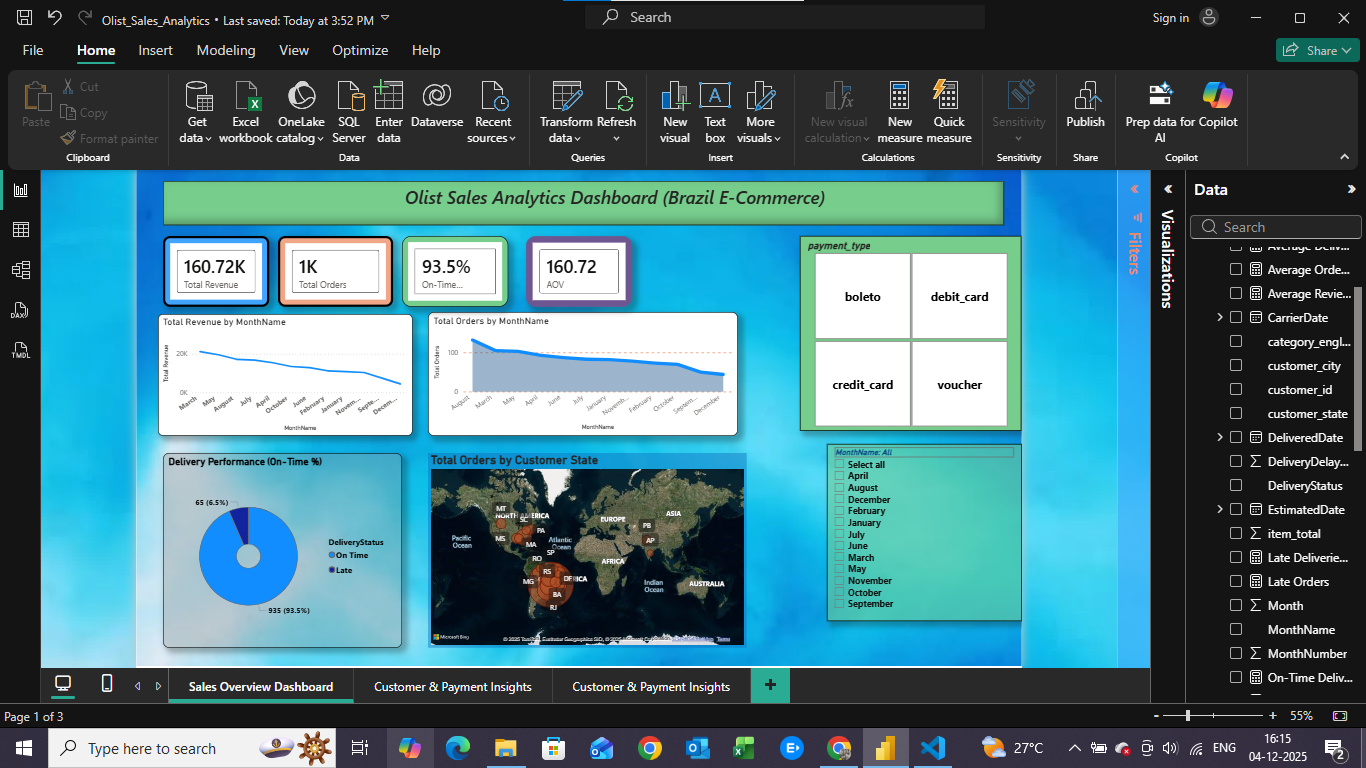

The page's visual inventory and layout, read from the dashboard file:
{"tool":"powerbi","page":{"name":"Sales Overview Dashboard","canvas":[1600,900],"ordinal":0},"visuals":[{"type":"cardVisual","fields":{"Data":["vw_sales_summary.Total Orders"]},"box":[256,120,208,128],"z":0},{"type":"lineChart","fields":{"Category":["vw_sales_summary.MonthName"],"Y":["vw_sales_summary.Total Revenue"]},"box":[40,260,460,220],"z":1000},{"type":"cardVisual","fields":{"Data":["vw_sales_summary.Total Revenue"]},"box":[48,120,192,128],"z":2000},{"type":"lineChart","fields":{"Category":["vw_sales_summary.MonthName"],"Y":["vw_sales_summary.Total Orders"]},"box":[528,256,560,224],"z":3000},{"type":"cardVisual","fields":{"Data":["vw_sales_summary.AOV"]},"box":[704,120,192,128],"z":4000},{"type":"donutChart","title":"Delivery Performance (On-Time %)","fields":{"Category":["vw_sales_summary.DeliveryStatus"],"Y":["vw_sales_summary.Total Orders"]},"box":[48,512,432,352],"z":5000},{"type":"cardVisual","fields":{"Data":["vw_sales_summary.On-Time Delivery %"]},"box":[480,120,192,128],"z":6000},{"type":"slicer","fields":{"Values":["vw_sales_summary.MonthName"]},"box":[1248,496,352,320],"z":7000},{"type":"slicer","fields":{"Values":["vw_sales_summary.payment_type"]},"box":[1200,120,400,352],"z":8000},{"type":"textbox","box":[48,20,1520,80],"z":9000},{"type":"map","title":"Total Orders by Customer State","fields":{"Category":["vw_sales_summary.customer_state"],"Size":["vw_sales_summary.Total Orders"]},"box":[528,512,576,352],"z":10000}]}

Visuals, with their boxes on the page's 1600x900 design canvas (x1, y1, x2, y2). These are canvas units, not pixel positions in the 1366x768 screenshot, which may show the page scaled, cropped or inside an application window:
cardVisual - vw_sales_summary.Total Orders: <region>256, 120, 464, 248</region>
lineChart - vw_sales_summary.MonthName x vw_sales_summary.Total Revenue: <region>40, 260, 500, 480</region>
cardVisual - vw_sales_summary.Total Revenue: <region>48, 120, 240, 248</region>
lineChart - vw_sales_summary.MonthName x vw_sales_summary.Total Orders: <region>528, 256, 1088, 480</region>
cardVisual - vw_sales_summary.AOV: <region>704, 120, 896, 248</region>
"Delivery Performance (On-Time %)" donutChart: <region>48, 512, 480, 864</region>
cardVisual - vw_sales_summary.On-Time Delivery %: <region>480, 120, 672, 248</region>
slicer - vw_sales_summary.MonthName: <region>1248, 496, 1600, 816</region>
slicer - vw_sales_summary.payment_type: <region>1200, 120, 1600, 472</region>
textbox: <region>48, 20, 1568, 100</region>
"Total Orders by Customer State" map: <region>528, 512, 1104, 864</region>
